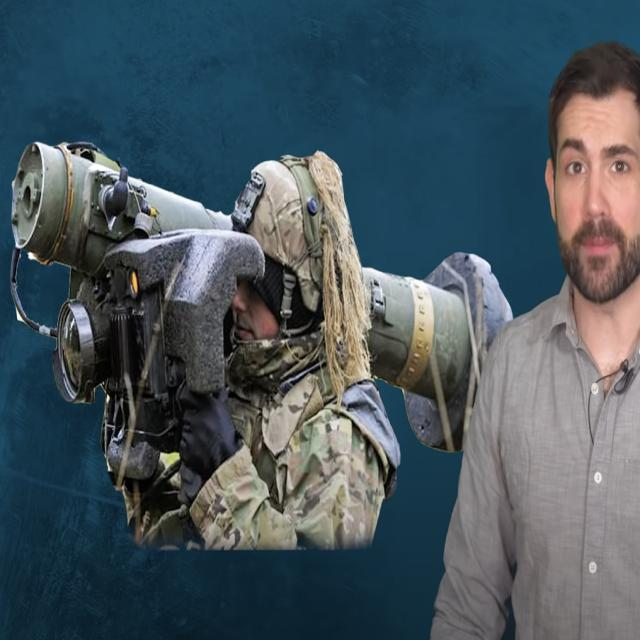bazooka: (4, 135, 519, 454)
